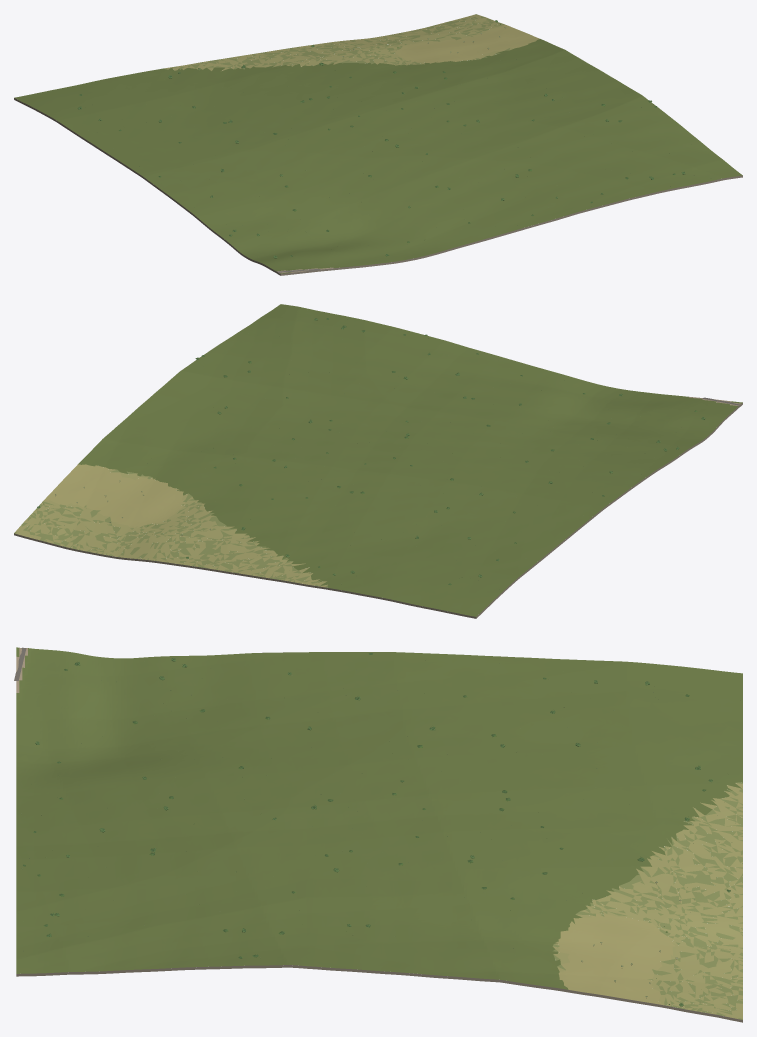
The model's file is parca_+11_-2-yakin.glb.
3 views of the same model, one above another, from view 1: azimuth 30°, elevation 25°; view 2: azimuth 150°, elevation 25°; view 3: azimuth 270°, elevation 25° (orthographic). The views are drawn at different scales.
Visible parts, largest first — view 1: parca_+11_-2_arazi, parca_+11_-2_bitkiler; view 2: parca_+11_-2_arazi, parca_+11_-2_bitkiler; view 3: parca_+11_-2_arazi, parca_+11_-2_bitkiler.
Part boxes in pixels (x1,y1,x2,y2): parca_+11_-2_arazi: (14, 14, 742, 275); parca_+11_-2_bitkiler: (77, 20, 693, 258); parca_+11_-2_arazi: (14, 304, 742, 618); parca_+11_-2_bitkiler: (37, 310, 705, 589); parca_+11_-2_arazi: (16, 647, 742, 1022); parca_+11_-2_bitkiler: (21, 653, 740, 1006).
Size of the model in its own units: 1001 by 106 by 1003.
